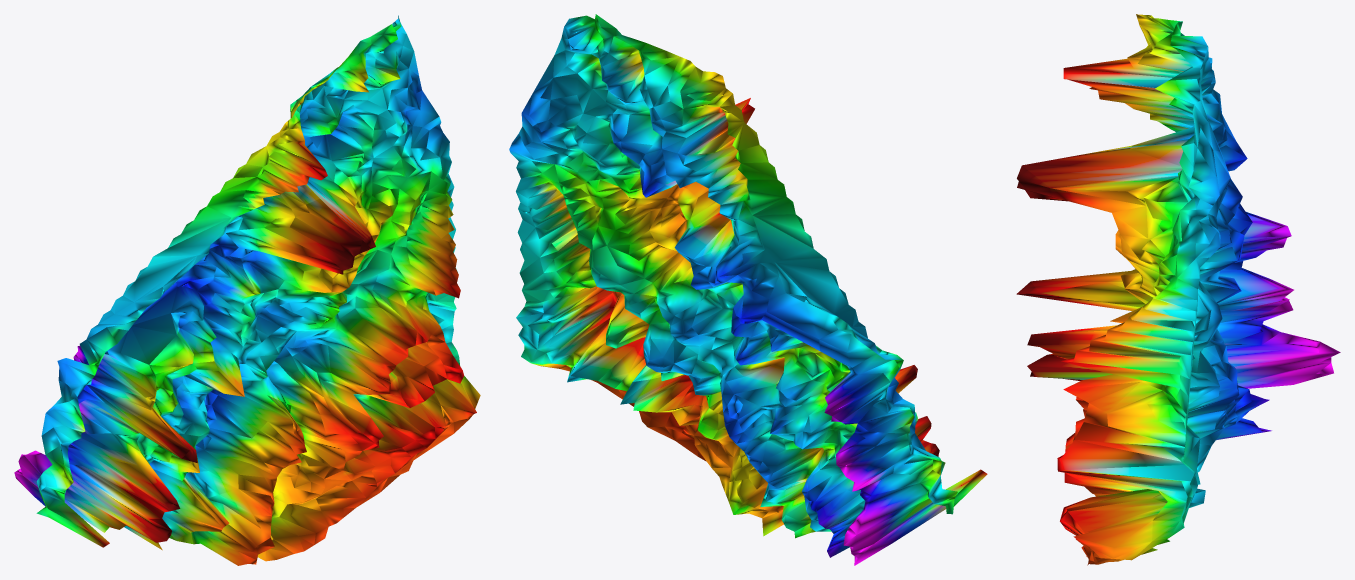
The model's file is Topo_Sal_cubo.glb.
The picture shows the model from 3 angles, left to right: view 1: azimuth 30°, elevation 25°; view 2: azimuth 150°, elevation 25°; view 3: azimuth 270°, elevation 25°; orthographic projection. The views are drawn at different scales.
Visible parts, largest first — view 1: Surface; view 2: Surface; view 3: Surface.
Boxes of the visible parts, x1,y1,x2,y2 form: Surface: (14,15,480,565); Surface: (509,14,987,565); Surface: (1016,14,1340,565).
Bounding box in the file's own units: 144387 × 157278 × 73306.
1 material, 1 textured.
